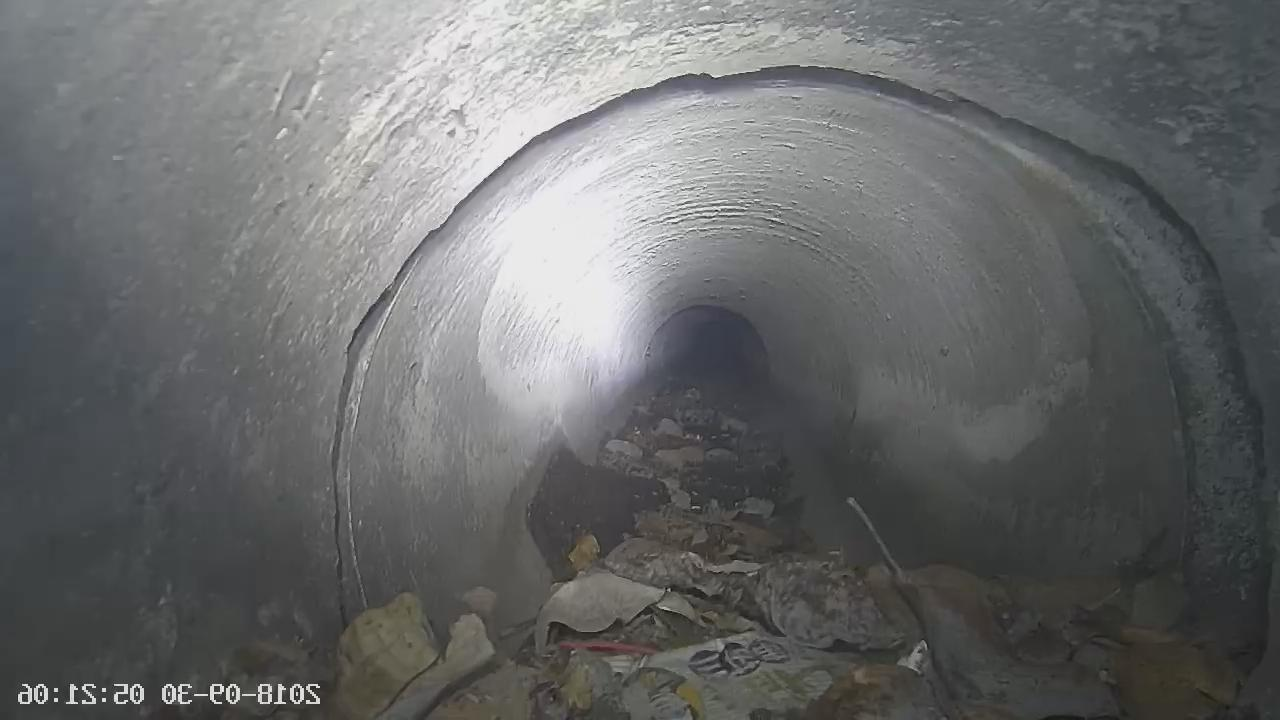CJ: (206, 388, 1239, 719)
CKTJ: (316, 55, 1274, 684)
